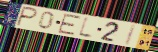0: (37, 11, 56, 31)
2: (98, 20, 122, 43)
E: (56, 14, 82, 37)
I: (122, 24, 138, 47)
L: (76, 15, 95, 41)
P: (15, 6, 39, 28)
